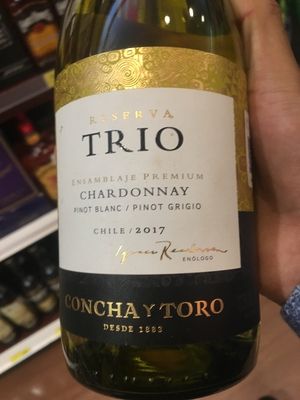trio chardonnay: (53, 2, 276, 377)
